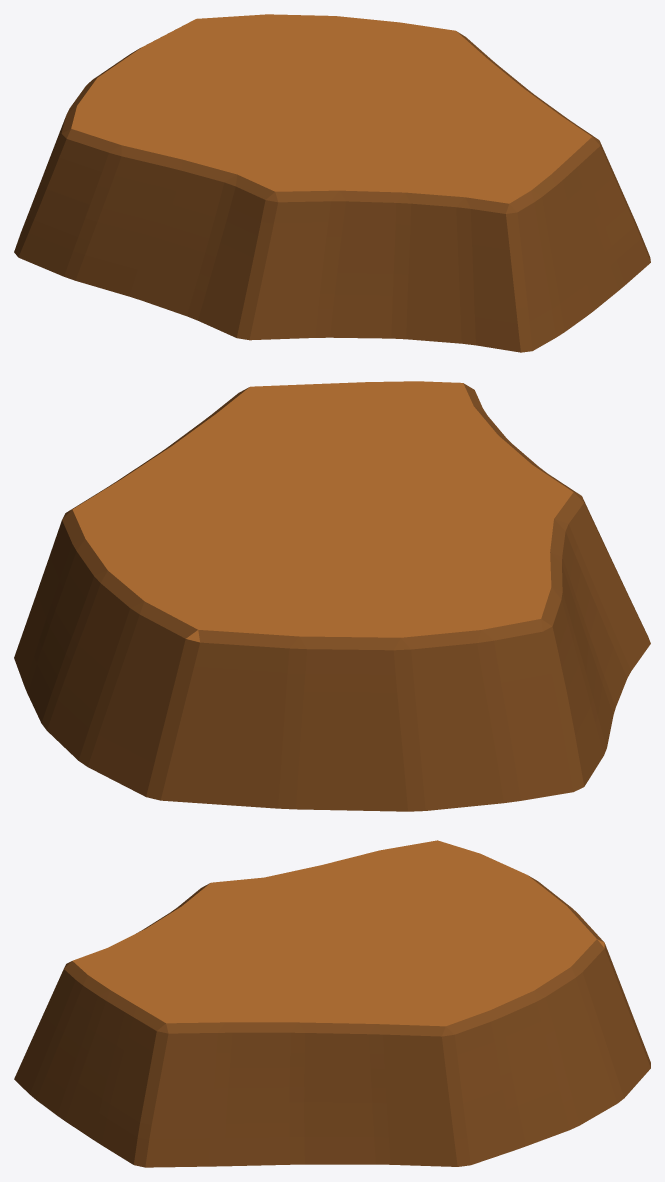
Rendered from Desert_Hill1.fbx.
3 views of the same model, one above another, from view 1: azimuth 30°, elevation 25°; view 2: azimuth 150°, elevation 25°; view 3: azimuth 270°, elevation 25° (orthographic). The views are drawn at different scales.
Parts seen in each view (by area): view 1: Cylinder.003; view 2: Cylinder.003; view 3: Cylinder.003.
Boxes of the visible parts, x1=… form: Cylinder.003: x1=14, y1=14, x2=650, y2=352; Cylinder.003: x1=14, y1=381, x2=650, y2=811; Cylinder.003: x1=14, y1=840, x2=650, y2=1167.
Bounding box in the file's own units: 735 × 184 × 872.
